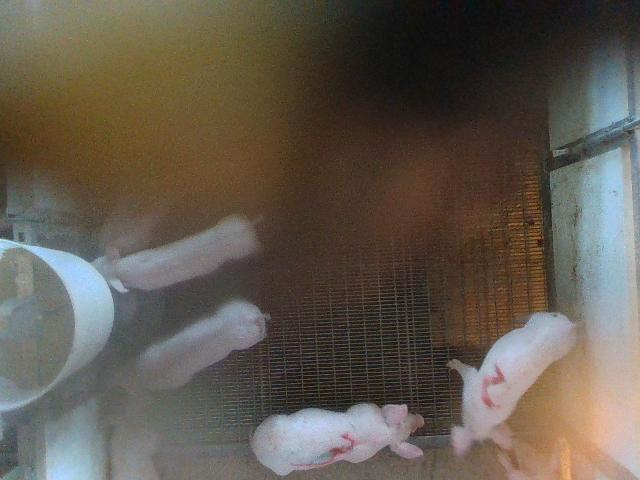pig-2: (448, 314, 578, 456)
pig-3: (250, 404, 424, 475)
